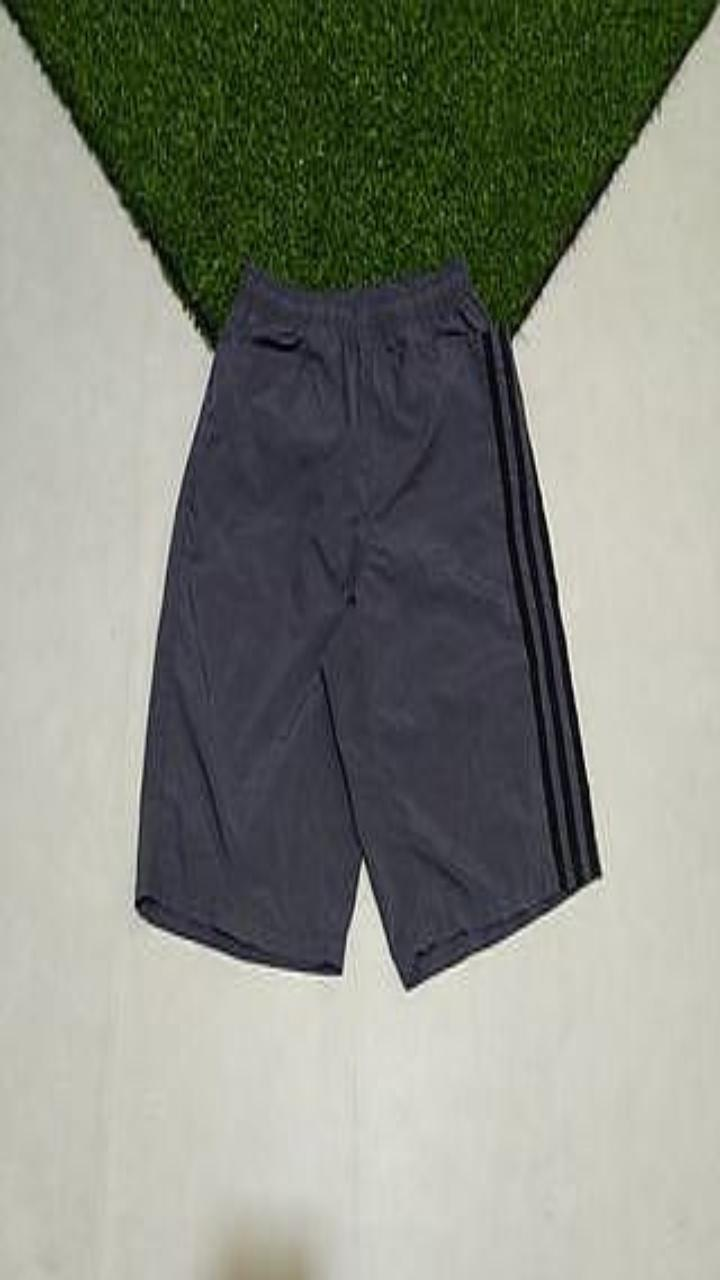Shorts: (135, 257, 600, 988)
